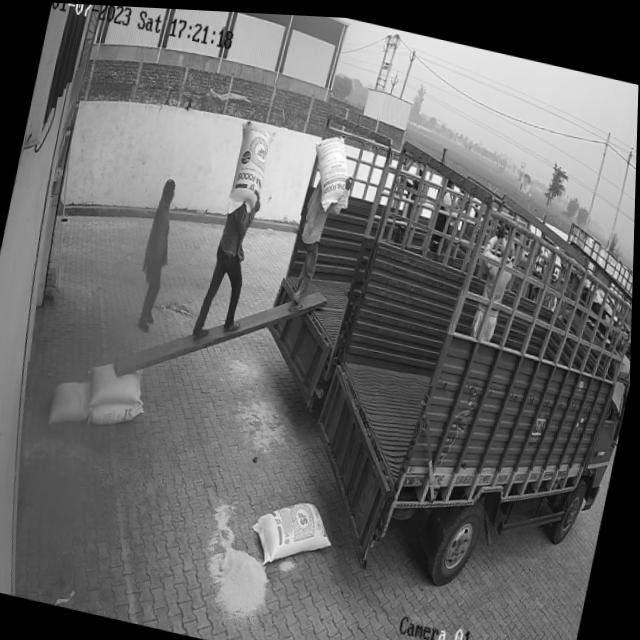sack: (248, 487, 341, 573), (225, 117, 277, 216), (303, 129, 361, 211), (84, 357, 148, 416), (48, 371, 96, 430), (91, 391, 148, 432)
